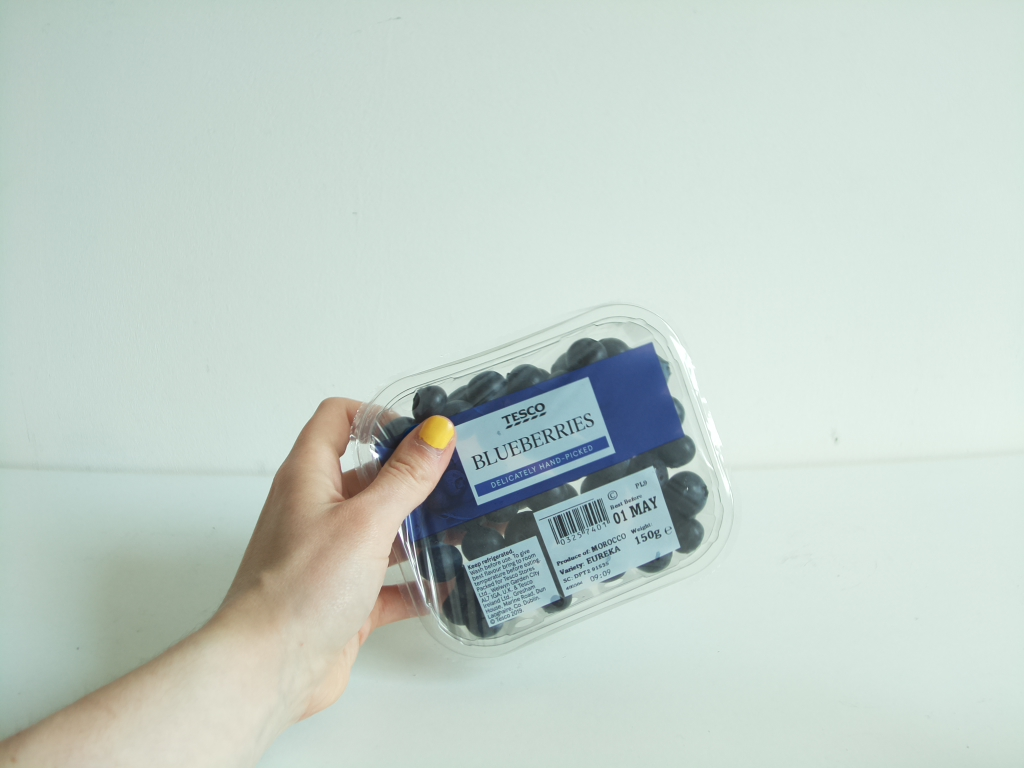soft-fruit: (349, 305, 740, 659)
